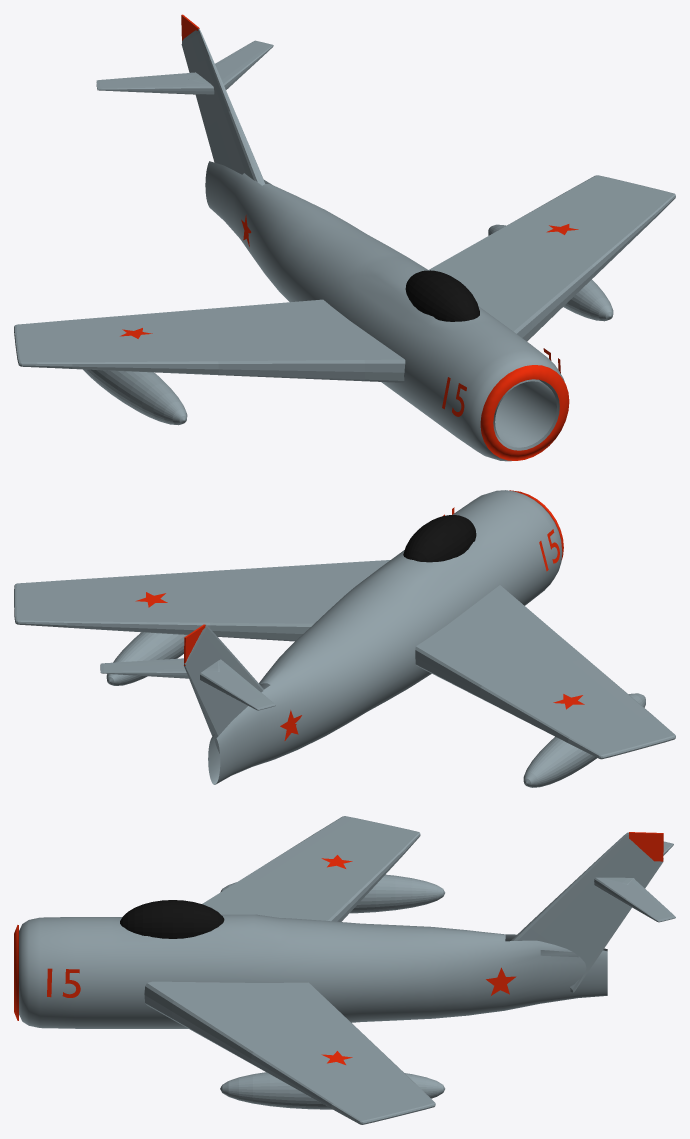
Rendered from fighter.glb.
3 views of the same model, one above another, from view 1: azimuth 30°, elevation 25°; view 2: azimuth 150°, elevation 25°; view 3: azimuth 270°, elevation 25° (orthographic). The views are drawn at different scales.
Parts seen in each view (by area): view 1: Cylinder.001, Cube.000, Cube.001, Cube.004, Sphere.002, Muendung, Sphere, Cube.003, Cube.002, Sphere.001; view 2: Cylinder.001, Cube.000, Cube.001, Cube.004, Sphere, Sphere.002, Sphere.001, Cube.003, Cube.002; view 3: Cylinder.001, Cube.001, Cube.000, Cube.004, Sphere, Sphere.001, Sphere.002, Cube.002, Cube.
Boxes of the visible parts, x1=… form: Cylinder.001: x1=205, y1=161, x2=564, y2=461; Cube.000: x1=14, y1=299, x2=405, y2=382; Cube.001: x1=428, y1=175, x2=675, y2=341; Cube.004: x1=181, y1=28, x2=265, y2=185; Sphere.002: x1=83, y1=369, x2=187, y2=425; Muendung: x1=480, y1=365, x2=569, y2=460; Sphere: x1=405, y1=270, x2=479, y2=321; Cube.003: x1=96, y1=72, x2=214, y2=94; Cube.002: x1=188, y1=40, x2=273, y2=89; Sphere.001: x1=488, y1=224, x2=613, y2=321; Cylinder.001: x1=208, y1=490, x2=562, y2=784; Cube.000: x1=415, y1=585, x2=675, y2=759; Cube.001: x1=14, y1=560, x2=389, y2=641; Cube.004: x1=184, y1=624, x2=263, y2=753; Sphere: x1=403, y1=515, x2=476, y2=562; Sphere.002: x1=523, y1=693, x2=645, y2=787; Sphere.001: x1=106, y1=632, x2=187, y2=685; Cube.003: x1=200, y1=659, x2=275, y2=710; Cube.002: x1=100, y1=658, x2=219, y2=678; Cylinder.001: x1=19, y1=914, x2=607, y2=1028; Cube.001: x1=144, y1=981, x2=435, y2=1124; Cube.000: x1=202, y1=816, x2=420, y2=921; Cube.004: x1=511, y1=832, x2=663, y2=992; Sphere: x1=120, y1=900, x2=224, y2=938; Sphere.001: x1=220, y1=1072, x2=445, y2=1109; Sphere.002: x1=220, y1=874, x2=445, y2=913; Cube.002: x1=594, y1=877, x2=675, y2=922; Cube: x1=629, y1=832, x2=663, y2=861.
Bounding box in the file's own units: 3.57 × 1.04 × 3.26.
